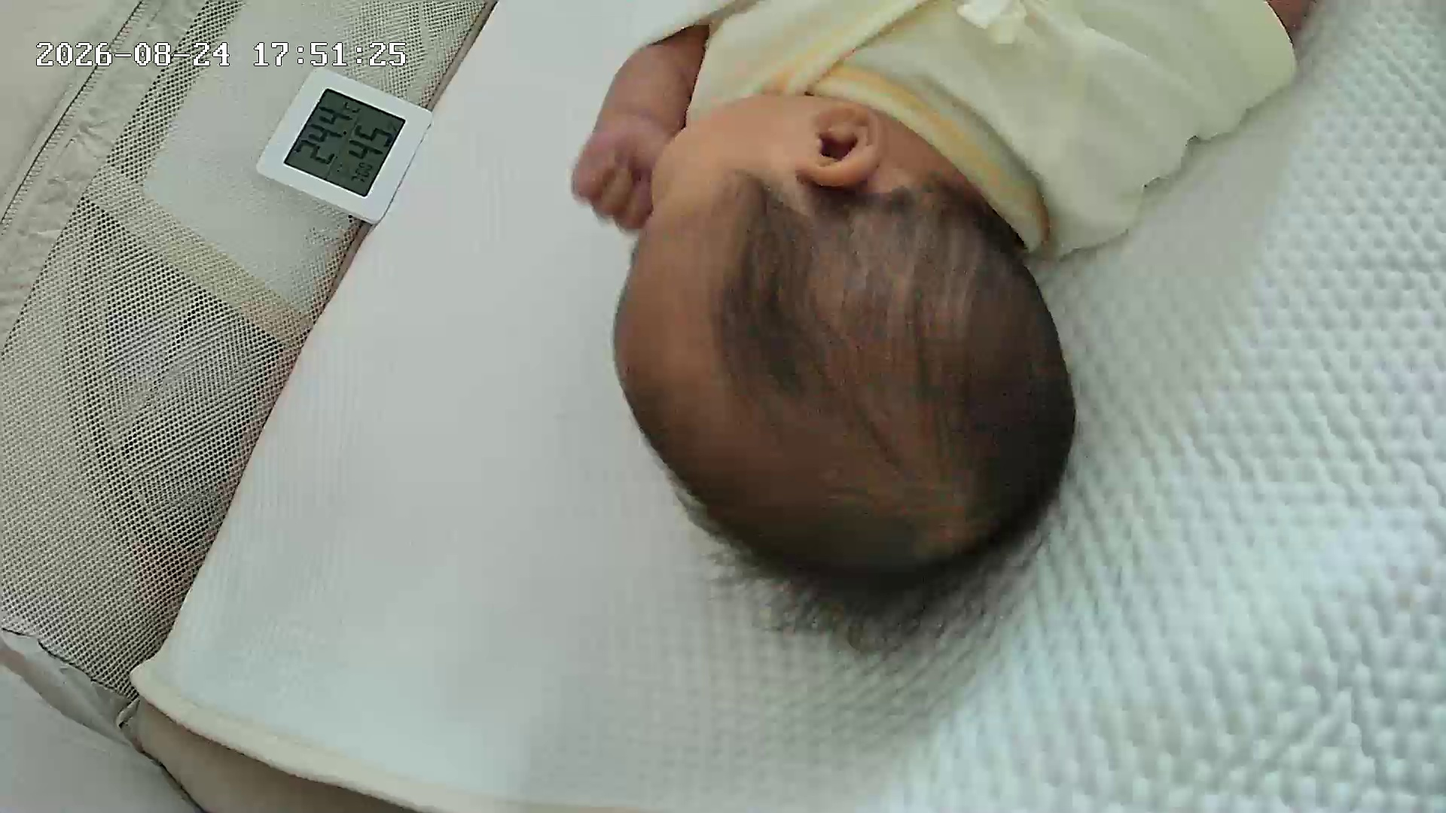baby: (271, 0, 1301, 631)
baby_face: (607, 82, 1085, 613)
